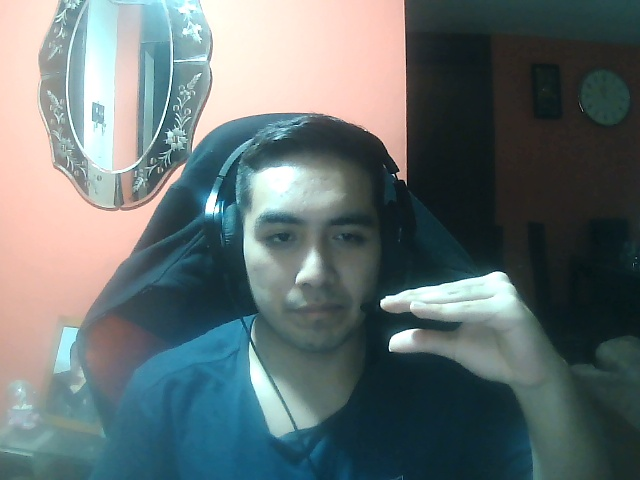no: (378, 267, 570, 388)
